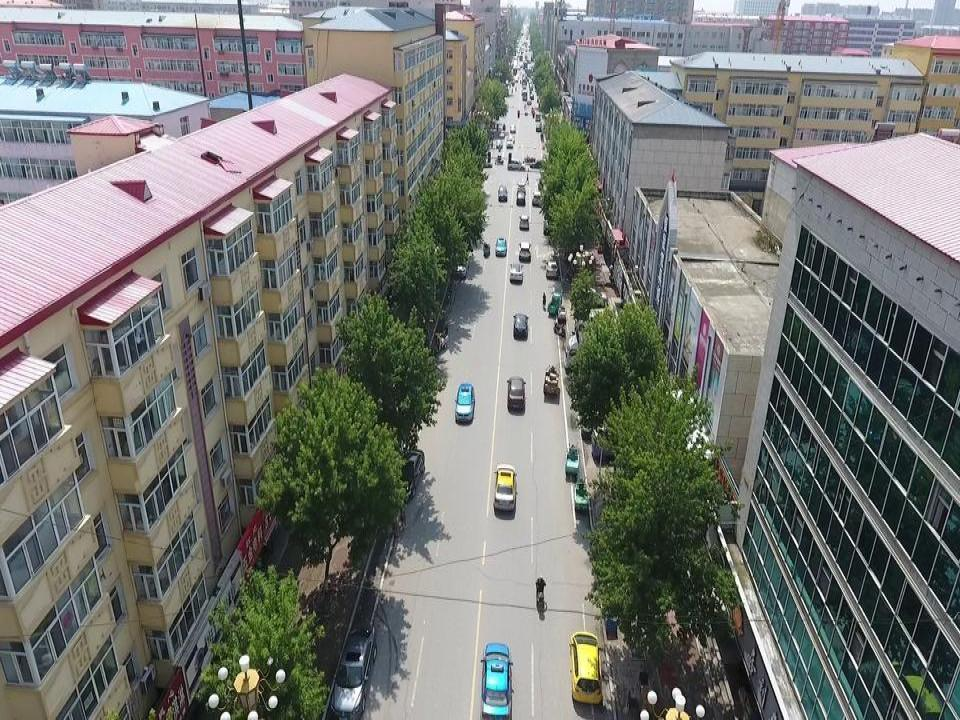car: (331, 628, 376, 720), (482, 638, 514, 720), (570, 629, 602, 704), (494, 463, 517, 514), (507, 375, 525, 417), (453, 252, 469, 279), (513, 312, 527, 341), (508, 263, 522, 284), (518, 241, 531, 262), (545, 260, 558, 277), (496, 236, 506, 257), (506, 159, 525, 169), (498, 184, 507, 203), (532, 192, 542, 208), (520, 214, 529, 231), (516, 189, 525, 204), (516, 180, 525, 191)
